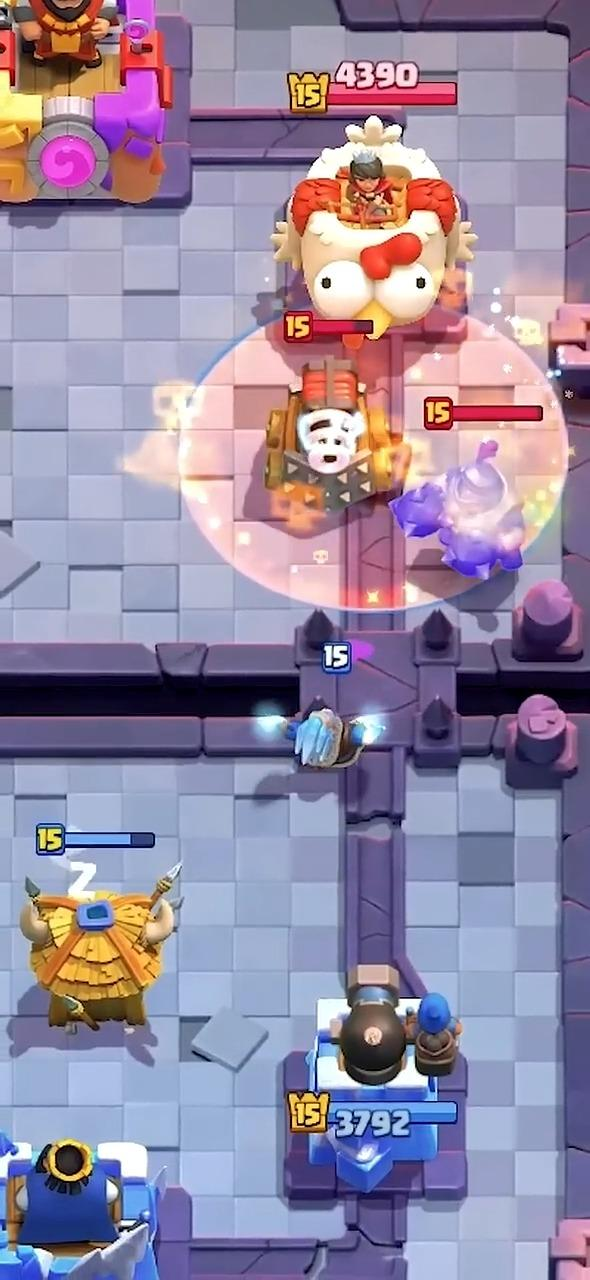goblin hut: (20, 866, 180, 1031)
ice wizard: (261, 706, 383, 769)
mega knight: (389, 441, 525, 579)
poison: (178, 326, 464, 613), (359, 312, 564, 514)
sparky: (265, 356, 410, 513)
